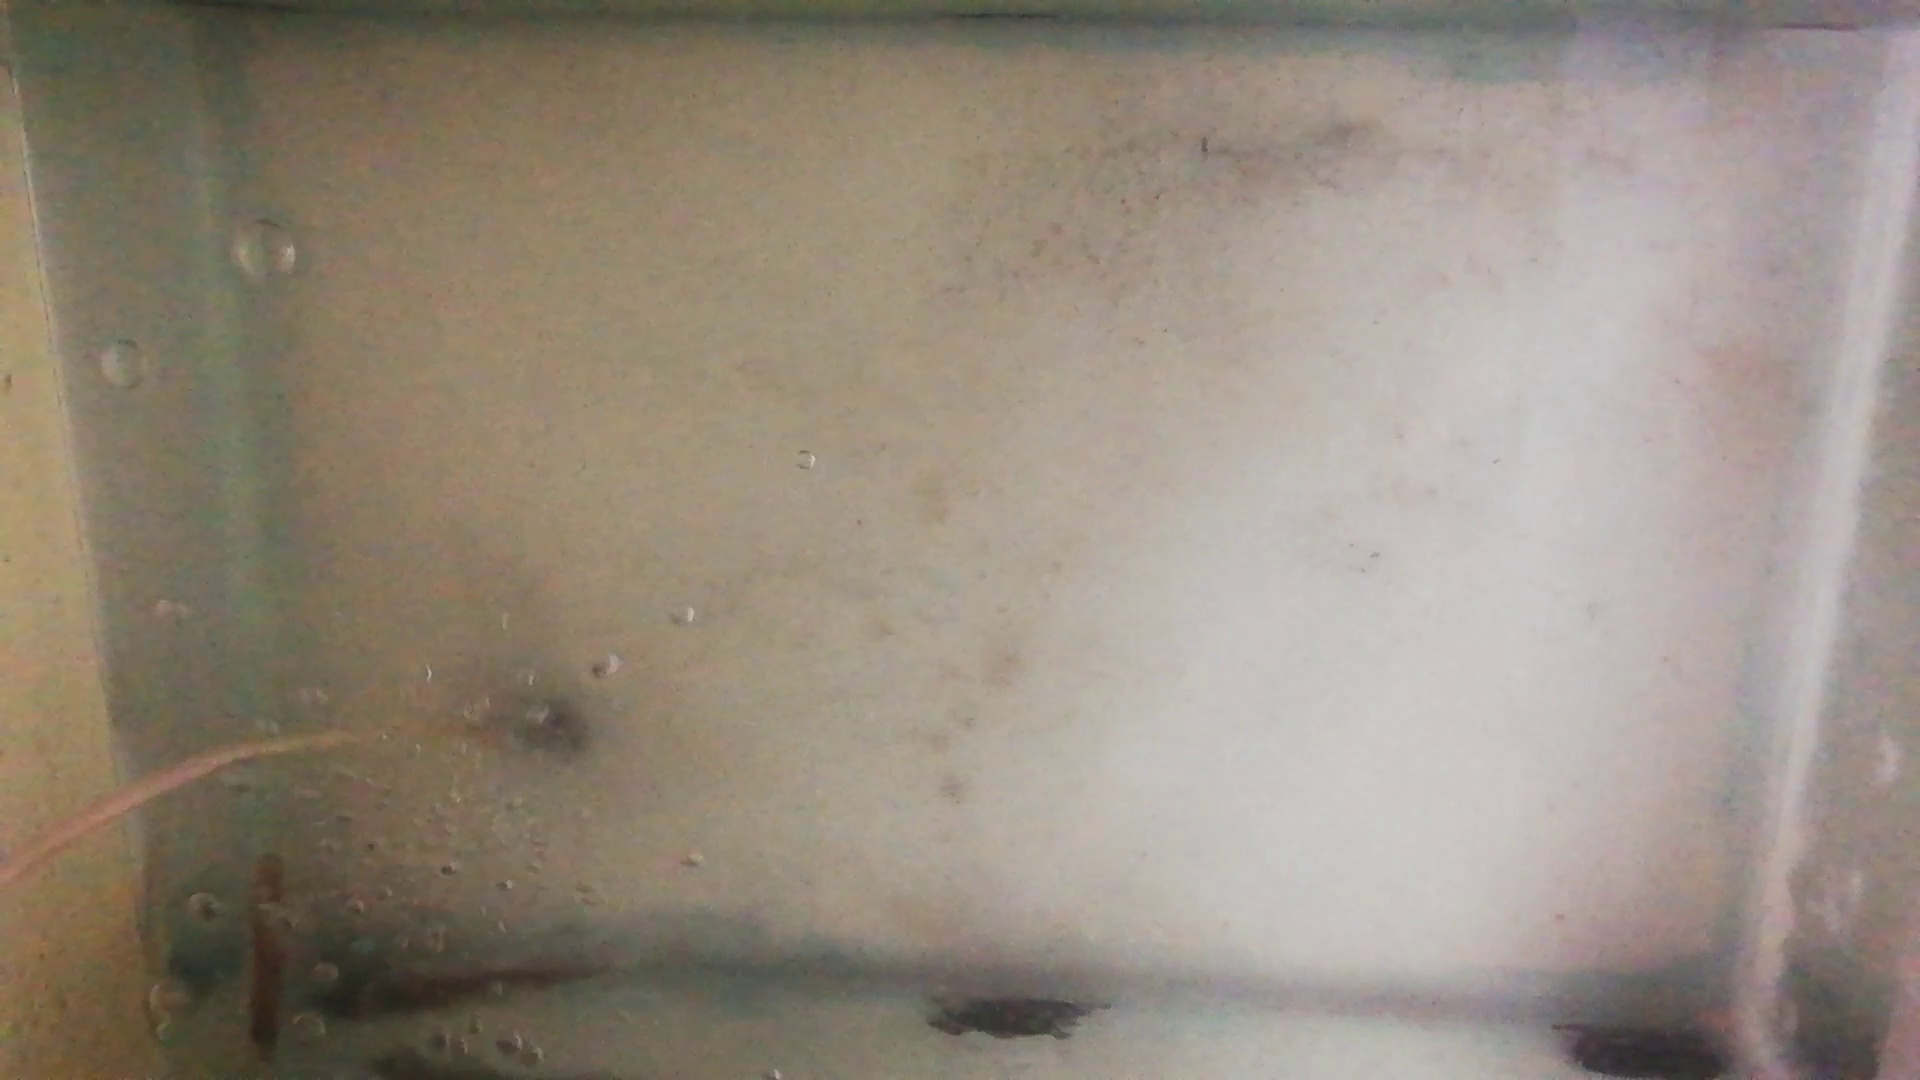fish: (316, 963, 603, 1027), (244, 847, 289, 1056)
